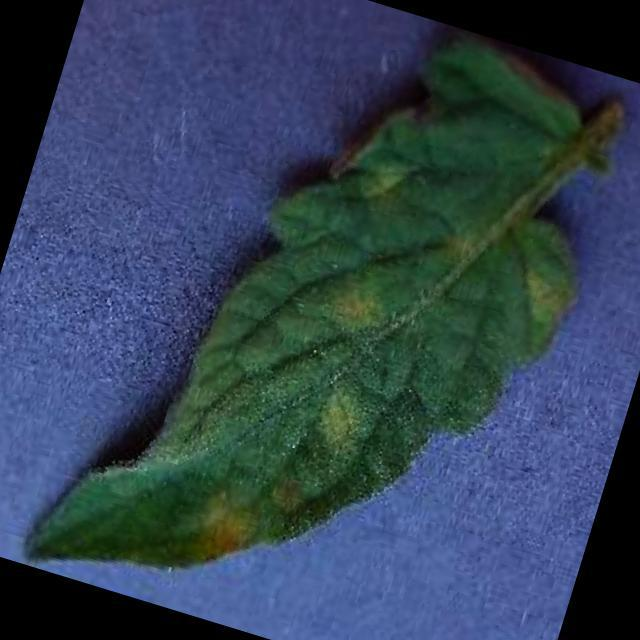Tomato mold leaf: (22, 0, 638, 640)
